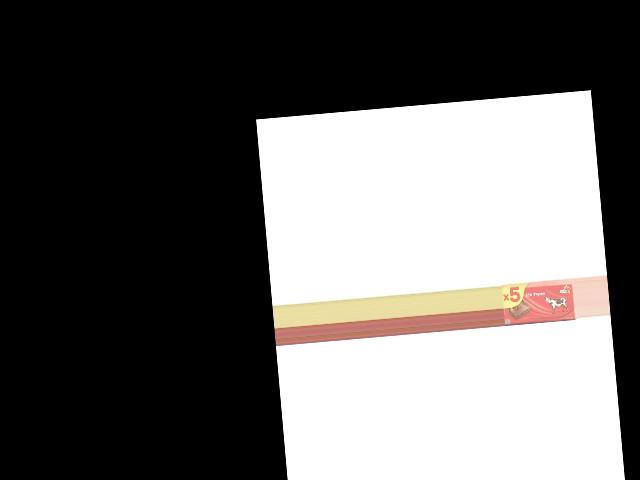chocolate: (501, 276, 577, 325)
